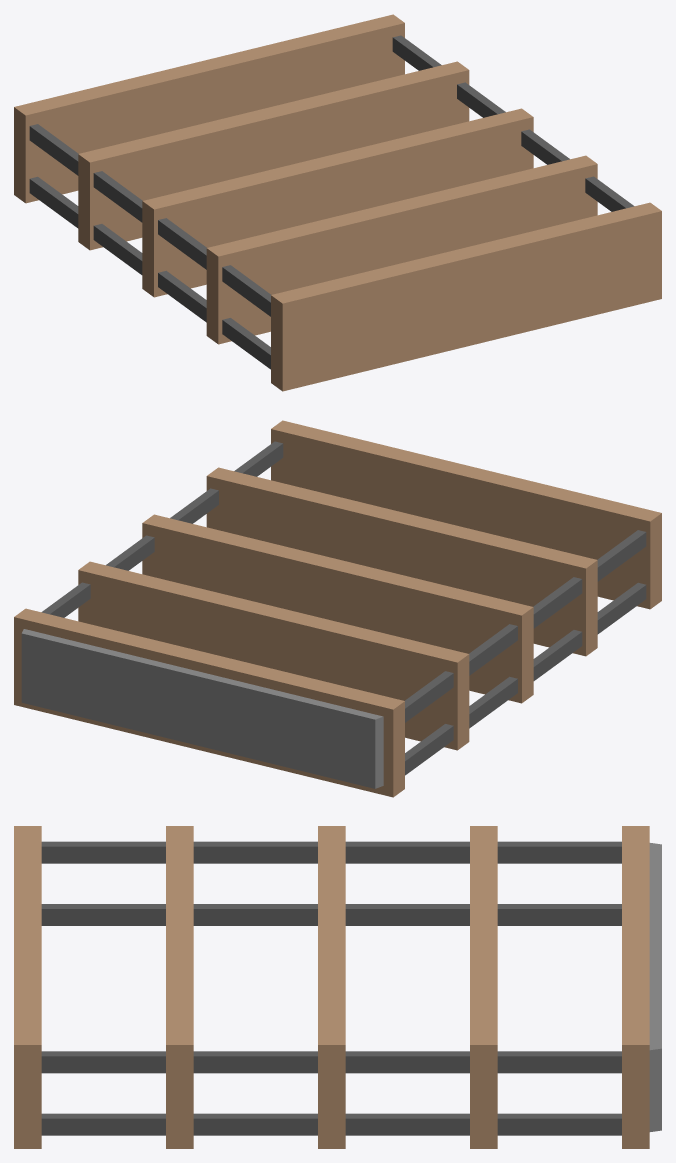
The model's file is Modern_Shelves.obj.
The picture shows the model from 3 angles, top to bottom: view 1: azimuth 30°, elevation 25°; view 2: azimuth 150°, elevation 25°; view 3: azimuth 270°, elevation 25°; orthographic projection. The views are drawn at different scales.
Visible parts, largest first — view 1: Modern_Shelves; view 2: Modern_Shelves; view 3: Modern_Shelves.
Boxes of the visible parts, box(x1,y1,x2,y2) form: Modern_Shelves: box(14, 14, 661, 391); Modern_Shelves: box(14, 420, 661, 797); Modern_Shelves: box(14, 826, 661, 1148).
Bounding box in the file's own units: 1.24 × 0.2757 × 1.56.
